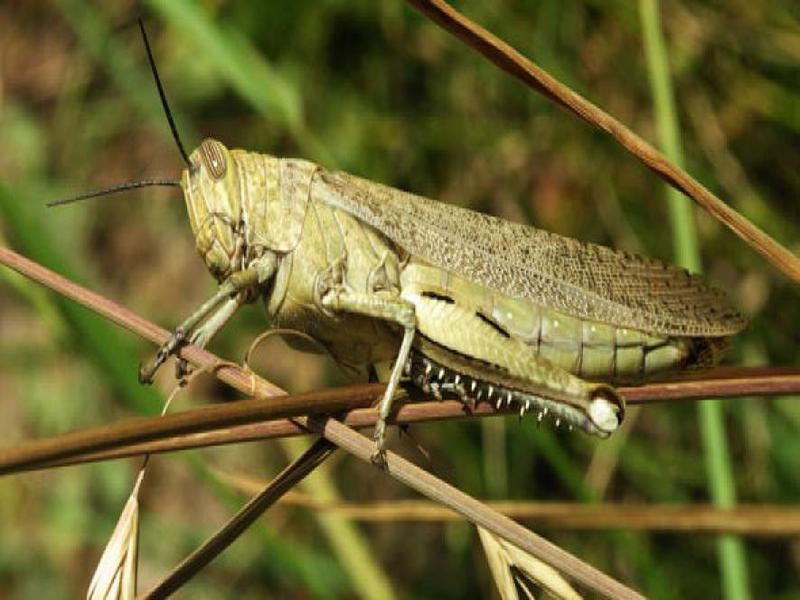Grasshopper: (166, 133, 756, 437)
